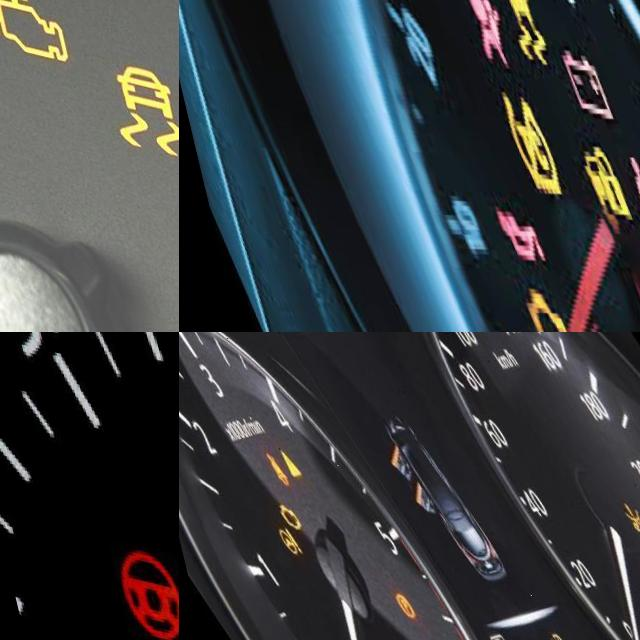Electronic Power Steering: (89, 538, 179, 640)
Electronic Power Steering Warning: (259, 521, 286, 553)
Seat Belt: (616, 130, 640, 219), (251, 446, 278, 483)
